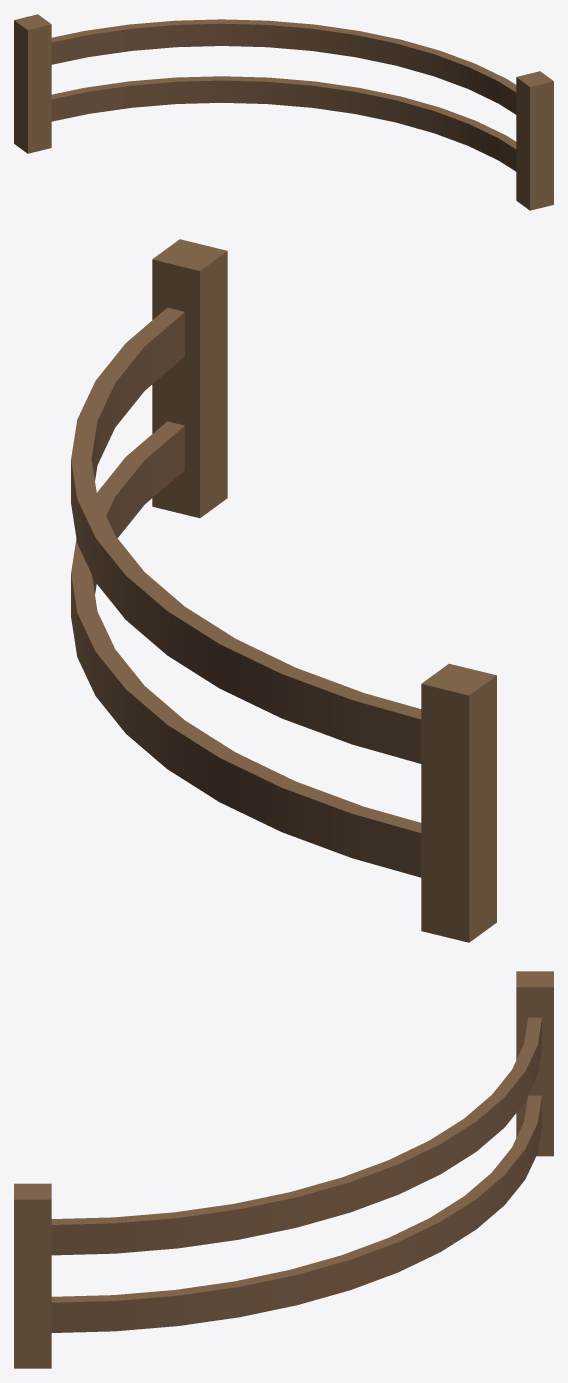
File: fence_bend.glb
3 renders of one model, top to bottom at view 1: azimuth 30°, elevation 25°; view 2: azimuth 150°, elevation 25°; view 3: azimuth 270°, elevation 25°, orthographic. The views are drawn at different scales.
Visible parts, largest first — view 1: fence_bend; view 2: fence_bend; view 3: fence_bend.
Part boxes in pixels (<box>): fence_bend: <box>14,14,553,210</box>; fence_bend: <box>71,239,496,942</box>; fence_bend: <box>14,971,553,1368</box>.
Size of the model in its own units: 1 by 0.345 by 1.
